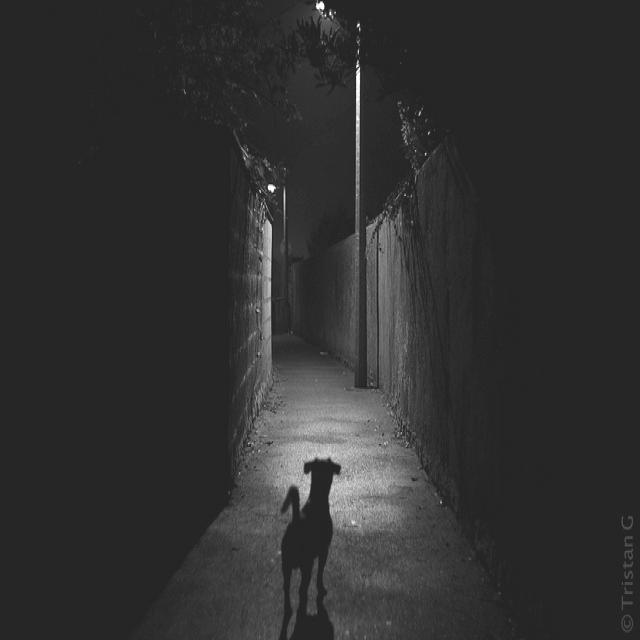Dog: (280, 460, 341, 614)
